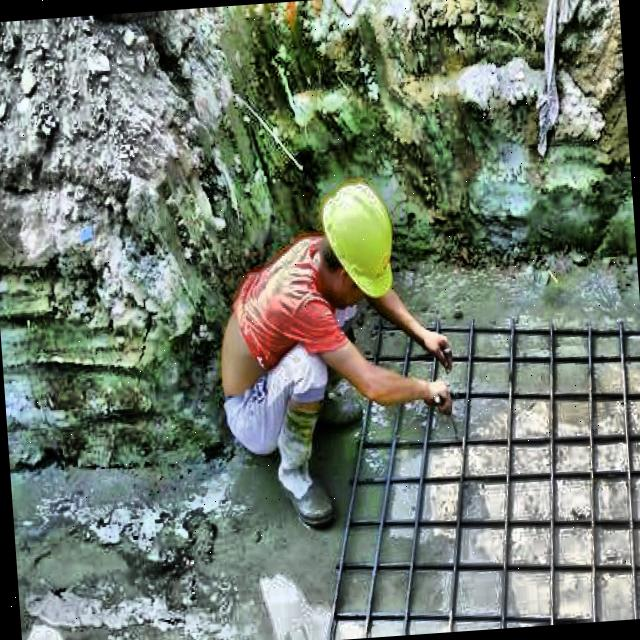helmet: (312, 174, 400, 304)
